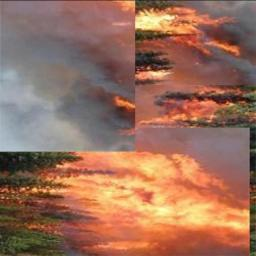Heavy smoke: (0, 0, 131, 142)
Large fire: (36, 149, 254, 255), (142, 5, 254, 128)
